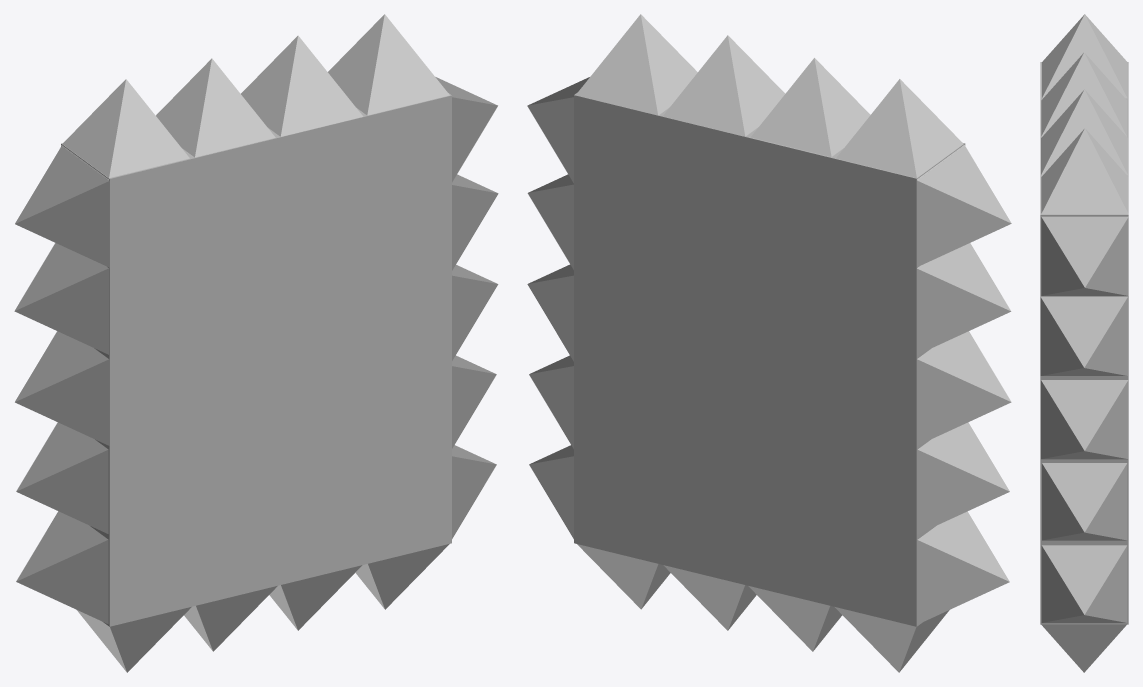
Rendered from TrompPlain.glb.
3 renders of one model, left to right at view 1: azimuth 30°, elevation 25°; view 2: azimuth 150°, elevation 25°; view 3: azimuth 270°, elevation 25°, orthographic. The views are drawn at different scales.
Visible parts, largest first — view 1: mesh_id27, mesh_id109, mesh_id111, mesh_id29, mesh_id42, mesh_id48, mesh_id110, mesh_id113, mesh_id112, mesh_id35, mesh_id60, mesh_id63 (+7 smaller); view 2: mesh_id27, mesh_id109, mesh_id111, mesh_id29, mesh_id42, mesh_id110, mesh_id48, mesh_id113, mesh_id112, mesh_id35, mesh_id60, mesh_id61 (+7 smaller); view 3: mesh_id93, mesh_id81, mesh_id82, mesh_id84, mesh_id83, mesh_id48, mesh_id42, mesh_id29, mesh_id27, mesh_id35, mesh_id63.
Boxes of the visible parts, x1=… form: mesh_id27: x1=61, y1=93, x2=451, y2=626; mesh_id109: x1=15, y1=146, x2=109, y2=267; mesh_id111: x1=15, y1=331, x2=109, y2=445; mesh_id29: x1=61, y1=79, x2=189, y2=180; mesh_id42: x1=241, y1=35, x2=363, y2=136; mesh_id48: x1=328, y1=14, x2=449, y2=115; mesh_id110: x1=14, y1=243, x2=108, y2=354; mesh_id113: x1=16, y1=511, x2=108, y2=624; mesh_id112: x1=16, y1=422, x2=108, y2=533; mesh_id35: x1=156, y1=58, x2=275, y2=157; mesh_id60: x1=77, y1=607, x2=191, y2=672; mesh_id63: x1=355, y1=544, x2=449, y2=609; mesh_id27: x1=574, y1=93, x2=965, y2=626; mesh_id109: x1=917, y1=146, x2=1011, y2=266; mesh_id111: x1=917, y1=331, x2=1011, y2=445; mesh_id29: x1=836, y1=79, x2=964, y2=180; mesh_id42: x1=662, y1=35, x2=785, y2=136; mesh_id110: x1=916, y1=243, x2=1011, y2=354; mesh_id48: x1=575, y1=14, x2=697, y2=115; mesh_id113: x1=917, y1=511, x2=1009, y2=624; mesh_id112: x1=917, y1=422, x2=1009, y2=534; mesh_id35: x1=751, y1=58, x2=870, y2=156; mesh_id60: x1=835, y1=607, x2=949, y2=672; mesh_id61: x1=748, y1=586, x2=842, y2=651; mesh_id93: x1=1041, y1=216, x2=1128, y2=295; mesh_id81: x1=1040, y1=296, x2=1127, y2=375; mesh_id82: x1=1041, y1=380, x2=1128, y2=459; mesh_id84: x1=1041, y1=545, x2=1127, y2=622; mesh_id83: x1=1042, y1=463, x2=1127, y2=540; mesh_id48: x1=1041, y1=128, x2=1128, y2=214; mesh_id42: x1=1041, y1=89, x2=1128, y2=175; mesh_id29: x1=1042, y1=14, x2=1127, y2=98; mesh_id27: x1=1040, y1=62, x2=1128, y2=624; mesh_id35: x1=1041, y1=52, x2=1126, y2=136; mesh_id63: x1=1041, y1=624, x2=1126, y2=672.
Bounding box in the file's own units: 0.5381 × 0.6331 × 0.0932.
Materials: 19 (19 with a texture image).
